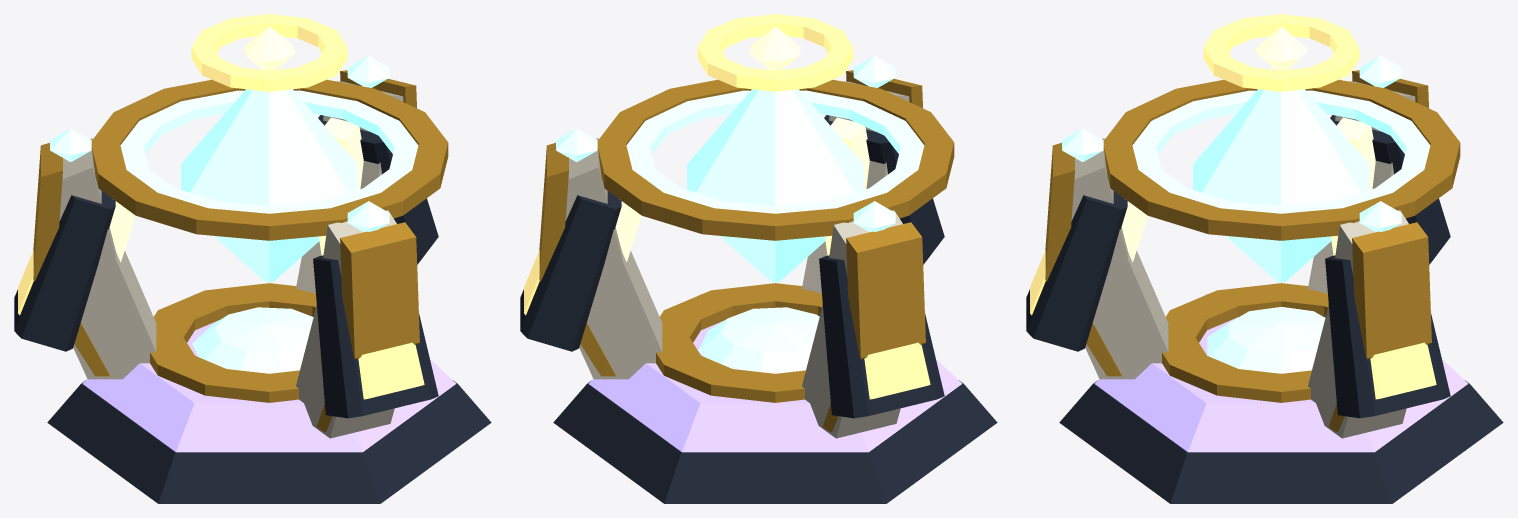
Rendered from aegis_relay.glb.
The picture shows the model from 3 angles, left to right: view 1: azimuth 30°, elevation 25°; view 2: azimuth 150°, elevation 25°; view 3: azimuth 270°, elevation 25°; orthographic projection.
Parts seen in each view (by area): view 1: Surf_obs, Surf_gold, Surf_turq, Surf_ame, Surf_ivory, Surf_TEAM, Surf_GLOW; view 2: Surf_obs, Surf_gold, Surf_turq, Surf_ame, Surf_ivory, Surf_TEAM, Surf_GLOW; view 3: Surf_obs, Surf_gold, Surf_turq, Surf_ame, Surf_ivory, Surf_TEAM, Surf_GLOW.
Boxes of the visible parts, box(x1,y1,x2,y2) form: Surf_obs: box(14, 115, 491, 503); Surf_gold: box(33, 70, 448, 431); Surf_turq: box(50, 55, 418, 373); Surf_ame: box(82, 293, 456, 452); Surf_ivory: box(59, 81, 403, 438); Surf_TEAM: box(18, 14, 424, 399); Surf_GLOW: box(109, 26, 363, 262); Surf_obs: box(520, 115, 997, 503); Surf_gold: box(539, 70, 954, 431); Surf_turq: box(556, 55, 924, 373); Surf_ame: box(588, 293, 962, 452); Surf_ivory: box(565, 81, 909, 438); Surf_TEAM: box(524, 14, 930, 399); Surf_GLOW: box(615, 26, 869, 262); Surf_obs: box(1026, 115, 1503, 503); Surf_gold: box(1045, 70, 1460, 431); Surf_turq: box(1062, 55, 1430, 373); Surf_ame: box(1094, 293, 1468, 452); Surf_ivory: box(1071, 81, 1415, 438); Surf_TEAM: box(1030, 14, 1436, 399); Surf_GLOW: box(1121, 26, 1375, 262).
Size of the model in its own units: 3.59 by 3.26 by 3.56.
